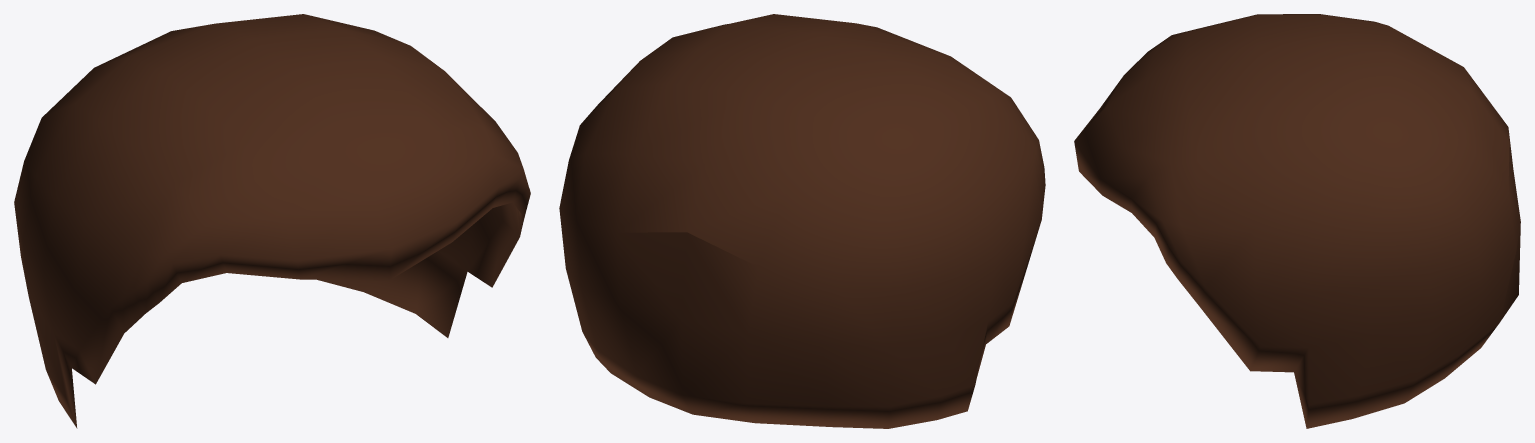
File: aa-hair-short-buzzcut.glb
3 views of the same model, side by side, from view 1: azimuth 30°, elevation 25°; view 2: azimuth 150°, elevation 25°; view 3: azimuth 270°, elevation 25° (orthographic). The views are drawn at different scales.
Visible parts, largest first — view 1: hairShortBuzzcut; view 2: hairShortBuzzcut; view 3: hairShortBuzzcut.
Boxes of the visible parts, box(x1,y1,x2,y2) form: hairShortBuzzcut: box(14, 14, 530, 428); hairShortBuzzcut: box(559, 14, 1045, 428); hairShortBuzzcut: box(1074, 14, 1520, 428).
Bounding box in the file's own units: 0.479 × 0.3538 × 0.4743.
1 material, 1 textured.
